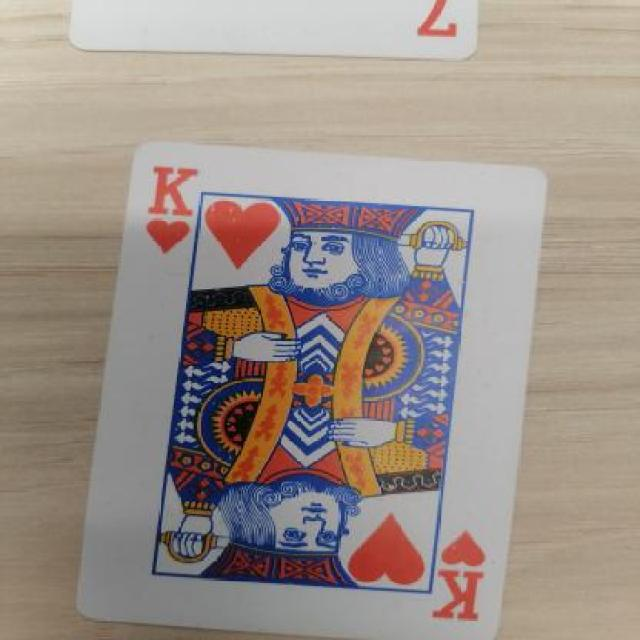KH: (126, 157, 219, 272), (432, 528, 499, 628)
